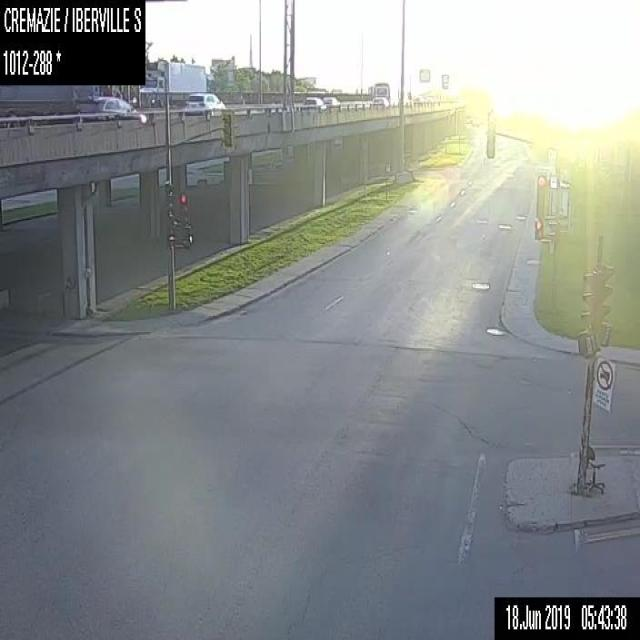bus: (373, 80, 399, 106)
vehicle: (0, 84, 107, 128), (139, 60, 205, 106), (91, 94, 145, 125), (185, 91, 226, 114), (302, 96, 327, 111), (321, 95, 339, 112), (369, 96, 388, 108), (423, 94, 436, 105), (413, 94, 425, 105)
